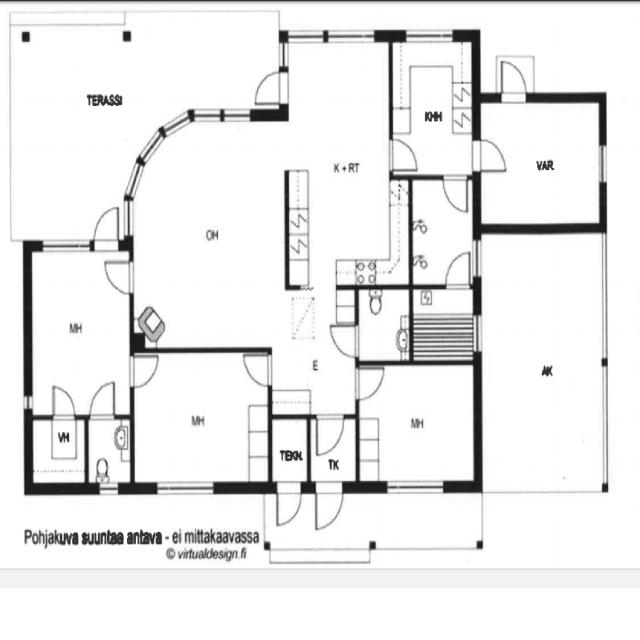door: (267, 412, 334, 482), (274, 480, 349, 532), (86, 409, 132, 490), (496, 56, 533, 106), (313, 480, 346, 534), (473, 134, 512, 176), (273, 481, 305, 532), (312, 413, 346, 459), (326, 320, 363, 362), (126, 351, 163, 392), (101, 255, 136, 298), (92, 202, 122, 252), (252, 68, 290, 107), (240, 350, 277, 390), (87, 378, 119, 423), (352, 363, 388, 403), (441, 170, 471, 216), (444, 248, 474, 290), (49, 382, 79, 424), (387, 136, 420, 174)
window: (594, 230, 615, 359), (597, 361, 614, 489), (191, 101, 254, 126), (381, 476, 449, 497), (36, 233, 95, 256), (401, 23, 459, 46), (151, 478, 220, 497), (323, 26, 378, 45), (120, 196, 138, 241), (160, 109, 192, 133), (596, 140, 610, 189), (470, 237, 484, 280), (282, 28, 328, 41), (472, 310, 484, 358), (93, 481, 123, 499), (276, 39, 292, 70), (21, 393, 34, 412)
zone: (130, 120, 284, 352), (481, 227, 604, 495), (286, 36, 397, 289), (132, 348, 270, 488), (29, 245, 131, 420), (474, 96, 604, 230), (356, 362, 478, 488), (390, 34, 476, 179), (411, 176, 474, 288), (410, 287, 476, 365), (356, 286, 411, 364), (31, 418, 88, 489), (86, 416, 132, 489), (271, 418, 309, 484)
